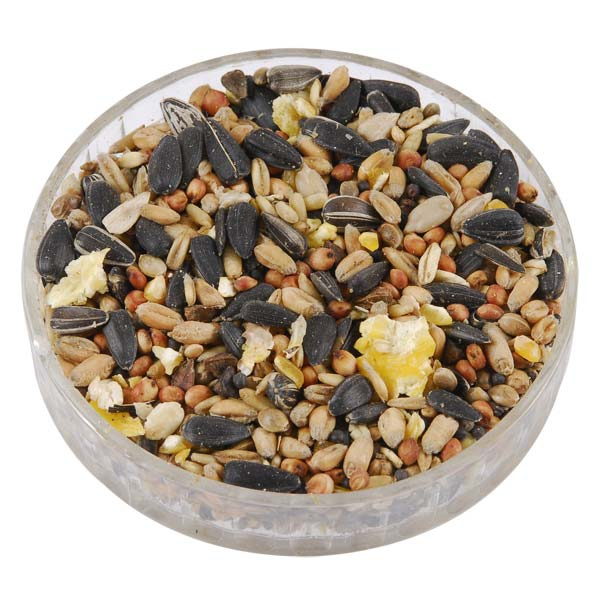seed: (13, 28, 586, 563)
